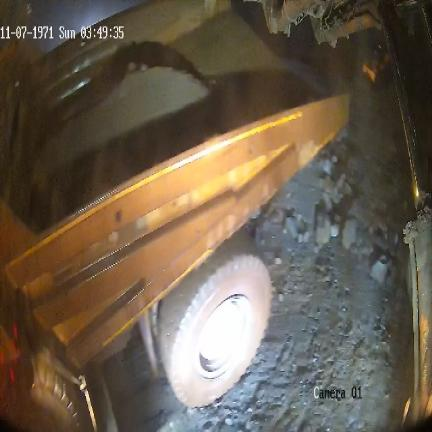pile: (256, 83, 412, 291), (86, 66, 210, 153)
